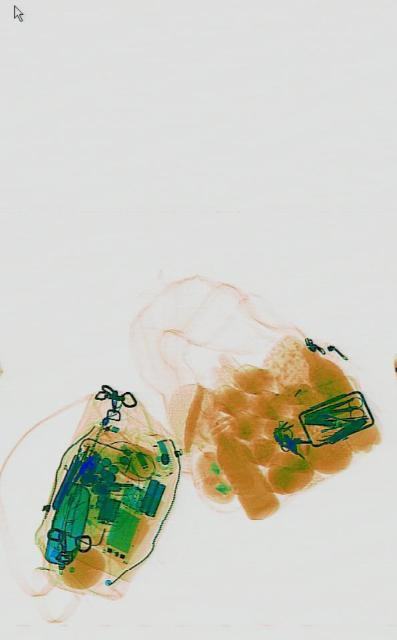Scissors: (326, 394, 364, 426)
